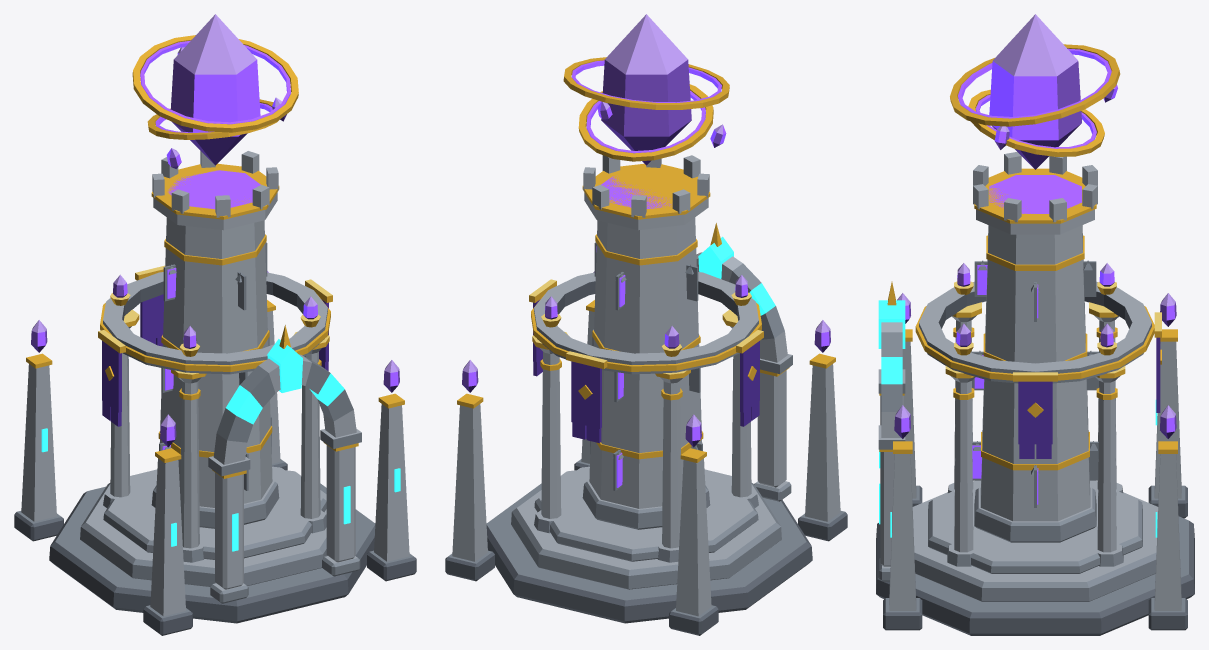
The model's file is Bld_Enchanter_L3.fbx.
3 renders of one model, left to right at view 1: azimuth 30°, elevation 25°; view 2: azimuth 150°, elevation 25°; view 3: azimuth 270°, elevation 25°, orthographic. The views are drawn at different scales.
Parts seen in each view (by area): view 1: Bld_Enchanter_L3; view 2: Bld_Enchanter_L3; view 3: Bld_Enchanter_L3.
Boxes of the visible parts, left/top/right/bottom form: Bld_Enchanter_L3: left=14, top=14, right=416, bottom=635; Bld_Enchanter_L3: left=445, top=14, right=847, bottom=635; Bld_Enchanter_L3: left=876, top=14, right=1194, bottom=635.
Size of the model in its own units: 3.52 by 6.78 by 3.52.
